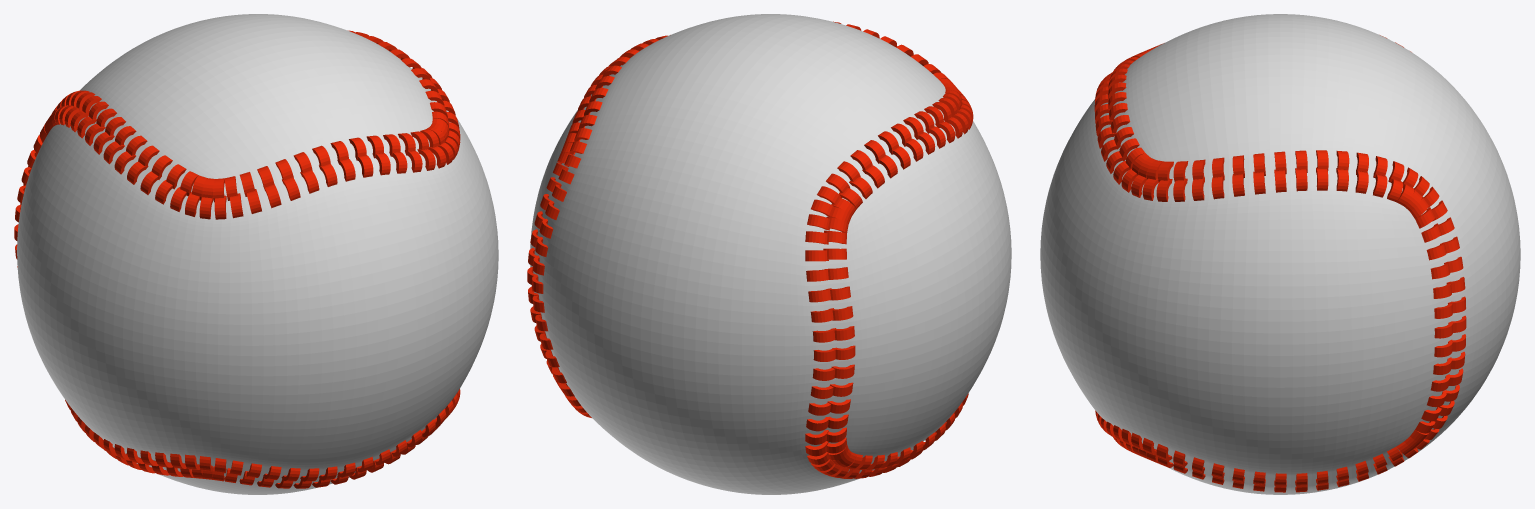
The model's file is BaseBallLowPoly.fbx.
The picture shows the model from 3 angles, left to right: view 1: azimuth 30°, elevation 25°; view 2: azimuth 150°, elevation 25°; view 3: azimuth 270°, elevation 25°; orthographic projection.
Visible parts, largest first — view 1: 立方体, 立方体.002; view 2: 立方体, 立方体.002; view 3: 立方体, 立方体.002.
Part boxes in pixels (box(x1,y1,x2,y2)): 立方体: box(17, 14, 498, 494); 立方体.002: box(14, 30, 460, 488); 立方体: box(530, 14, 1011, 494); 立方体.002: box(527, 21, 973, 478); 立方体: box(1040, 14, 1520, 494); 立方体.002: box(1094, 35, 1466, 492).
Size of the model in its own units: 169 by 169 by 169.
